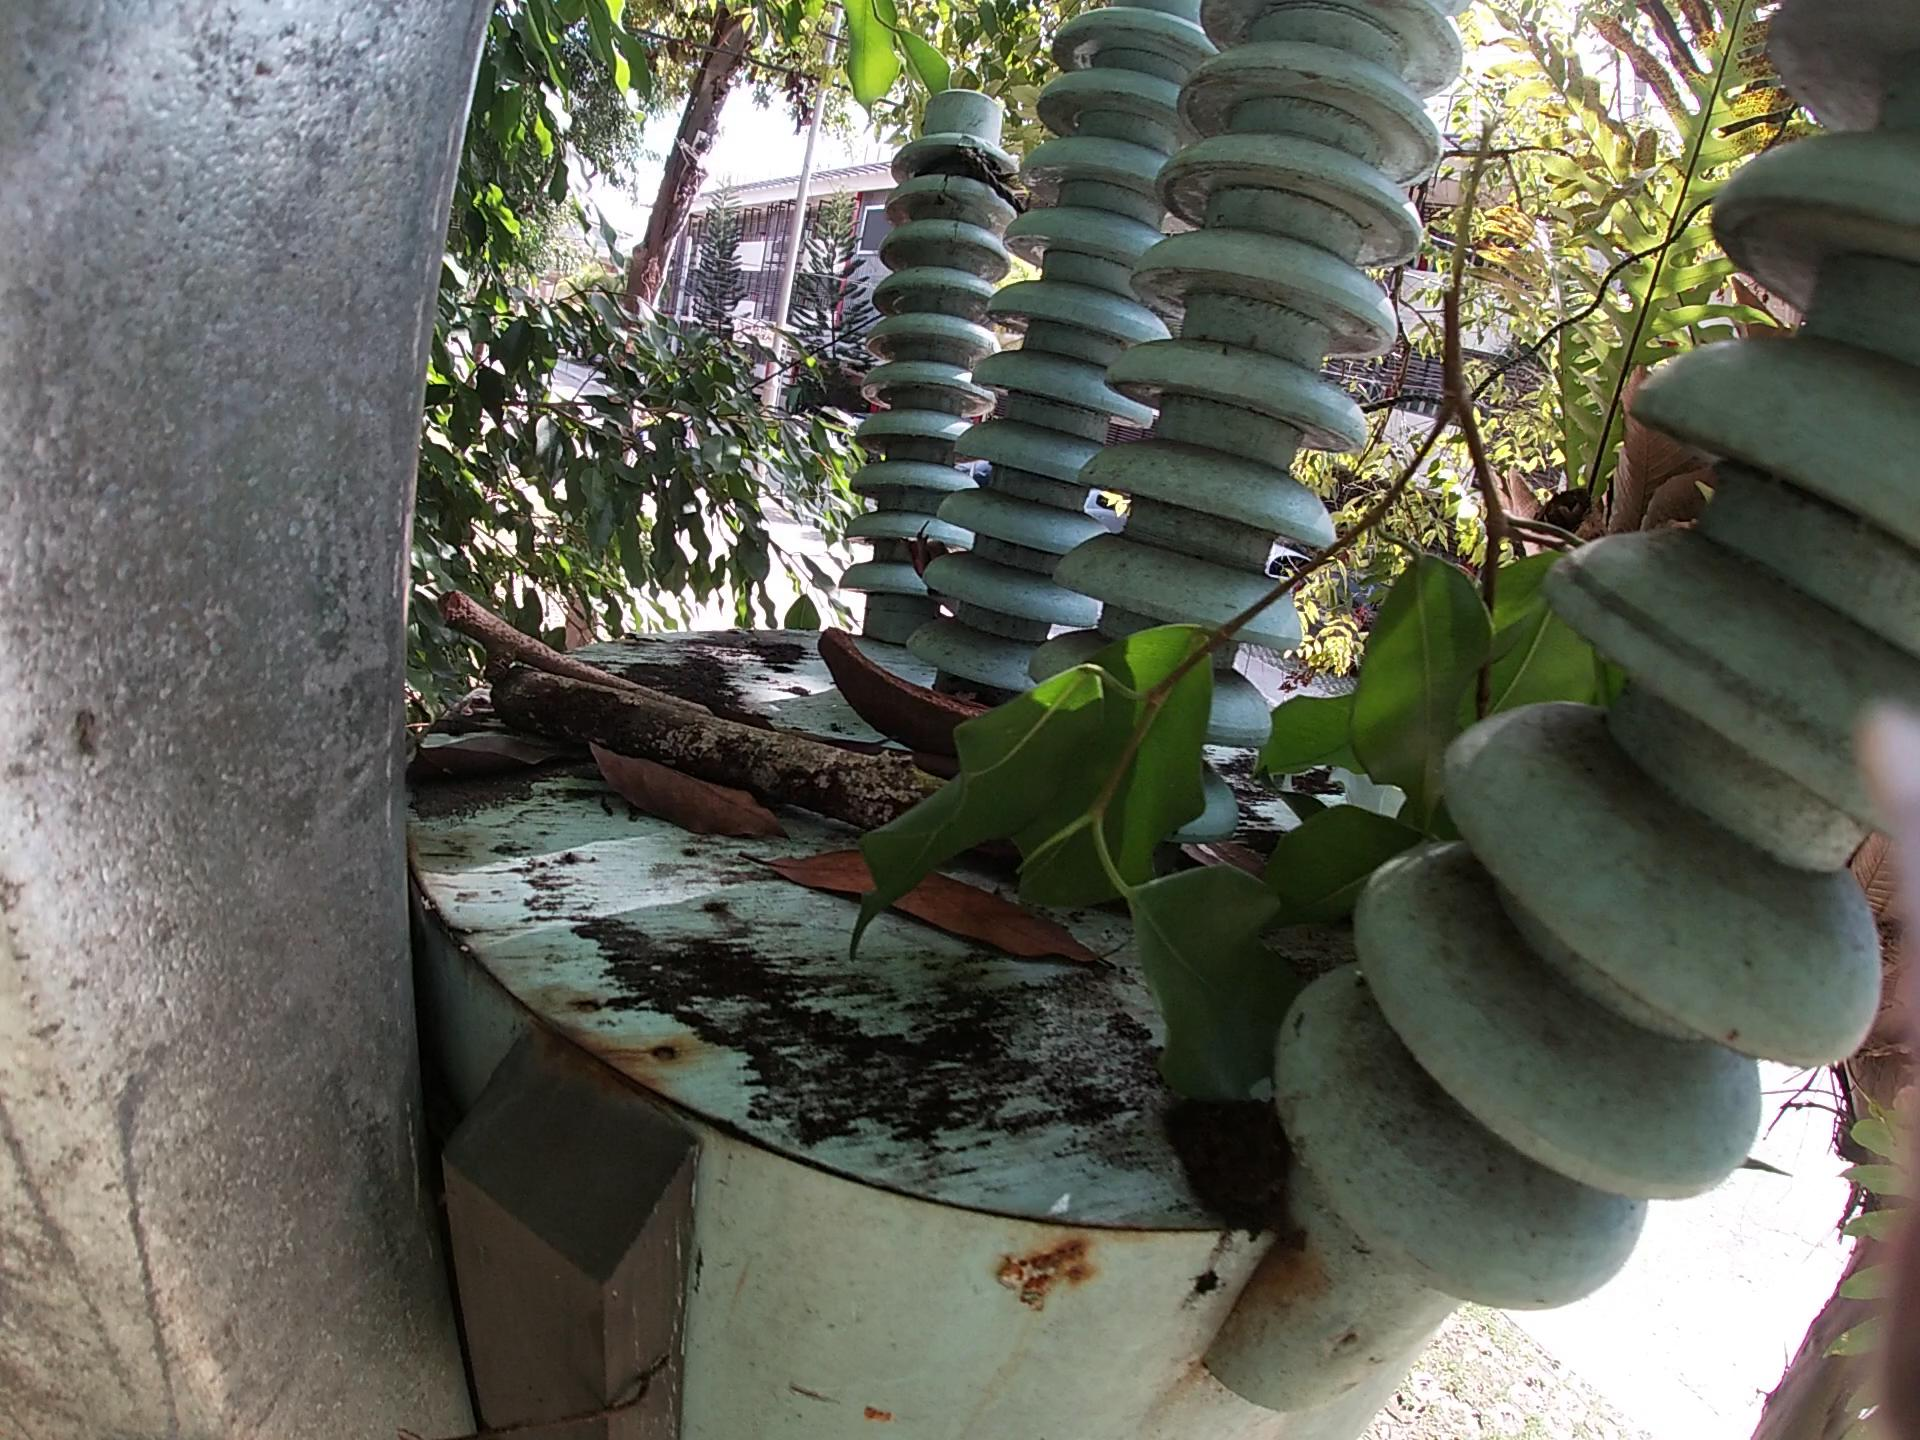branch with leaves: (878, 106, 1630, 1221)
leaf: (745, 846, 1116, 985), (588, 755, 809, 850), (393, 722, 550, 768)
mahogany fruit: (809, 611, 993, 746)
tree branch: (476, 682, 1048, 879), (444, 573, 927, 764)
